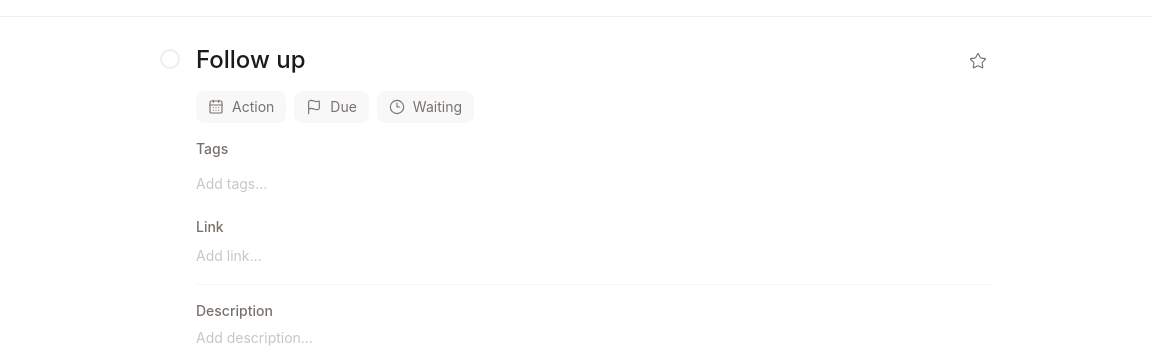
Test case: TaskDetailPanel › suggests reused waiting-for values and applies a selected suggestion
Click the button "Waiting".
click(425, 107)  # box [377,91,474,123]
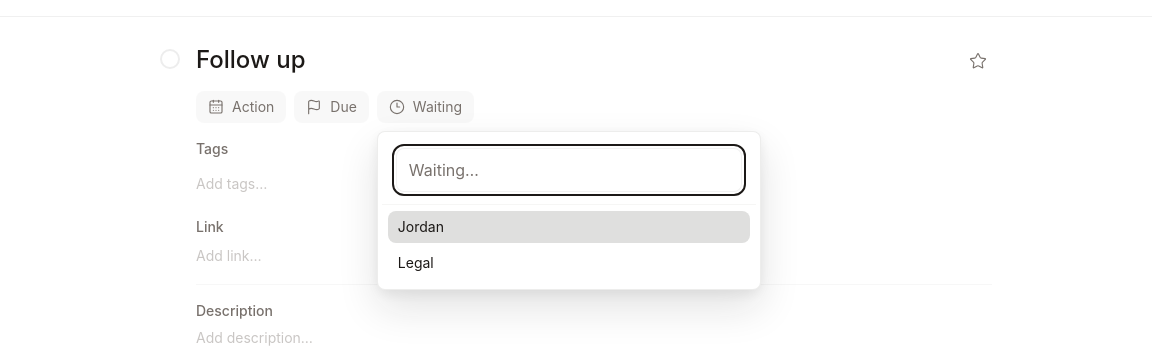
Type "jo" into the field with placeholder "Waiting…".
click(569, 170); type("jo")  # box [396,148,742,192]
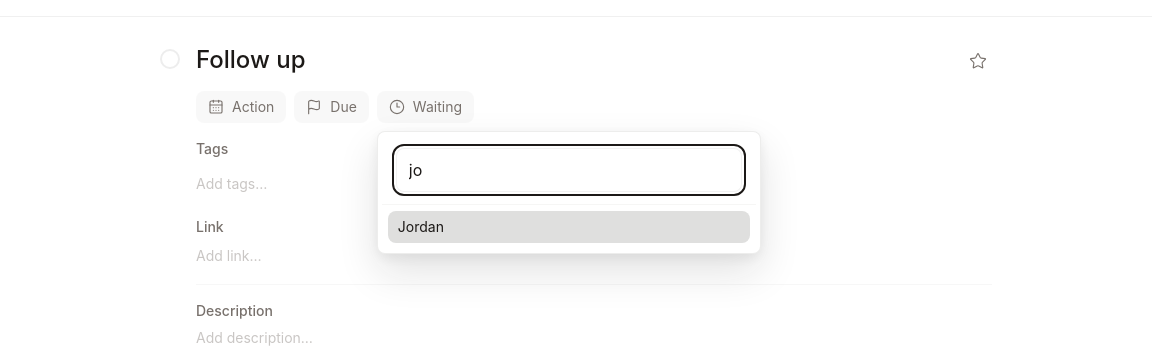
Check: the button "Jordan" is shown
Click the button "Jordan".
click(421, 226)  # box [388,211,750,243]
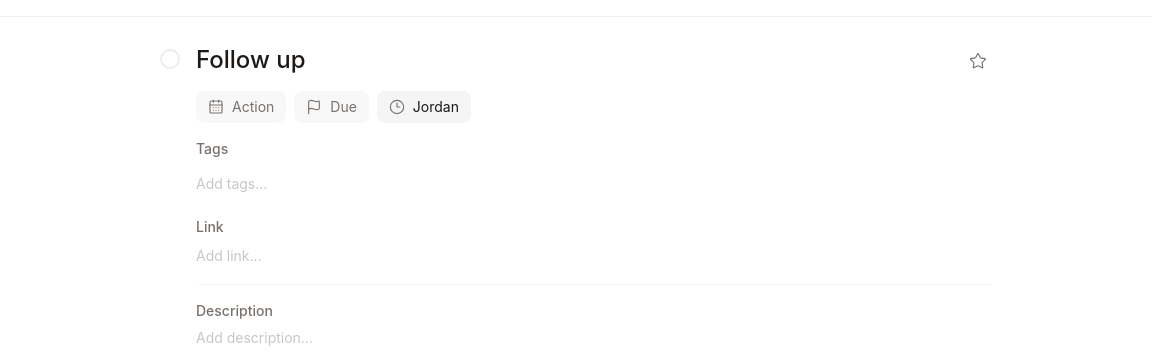
Check: the button with aria-label "Waiting Jordan" is shown, box [377,91,471,123]
Check: the field with placeholder "Waiting…" is gone
